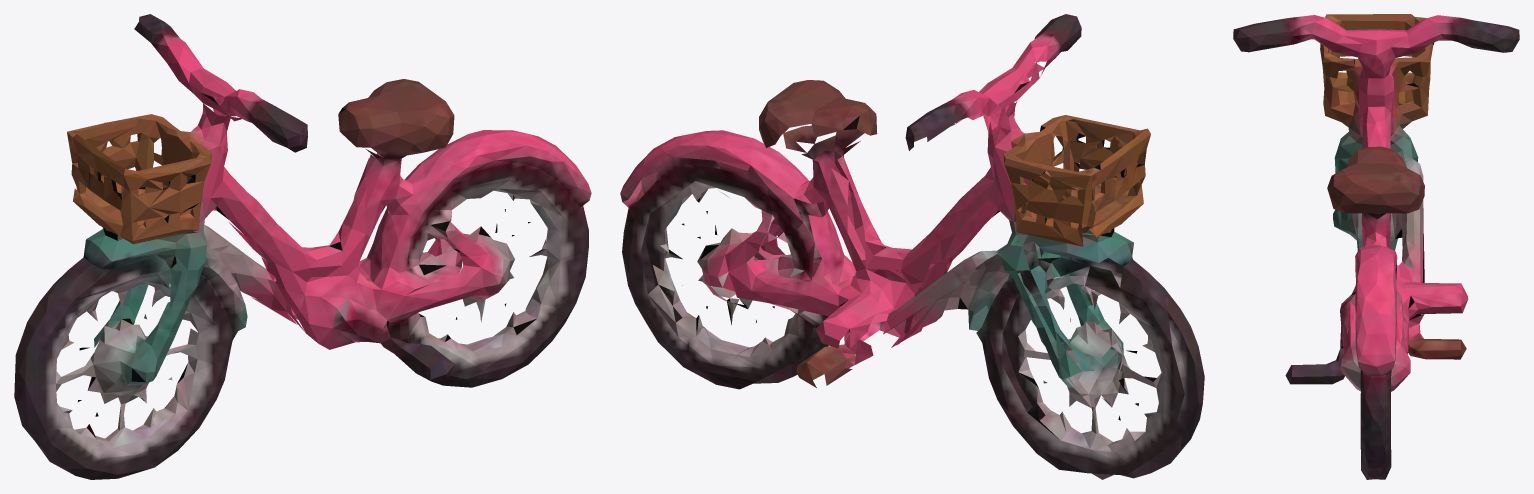
File: M-10_06_bicycles.glb
3 renders of one model, left to right at view 1: azimuth 30°, elevation 25°; view 2: azimuth 150°, elevation 25°; view 3: azimuth 270°, elevation 25°, orthographic. The views are drawn at different scales.
Visible parts, largest first — view 1: loA; view 2: loA; view 3: loA.
Boxes of the visible parts, <box> form: loA: <box>14,14,591,479</box>; loA: <box>620,14,1204,479</box>; loA: <box>1233,14,1519,479</box>.
Size of the model in its own units: 2.32 by 1.5 by 1.14.
Materials: 1 (1 with a texture image).
